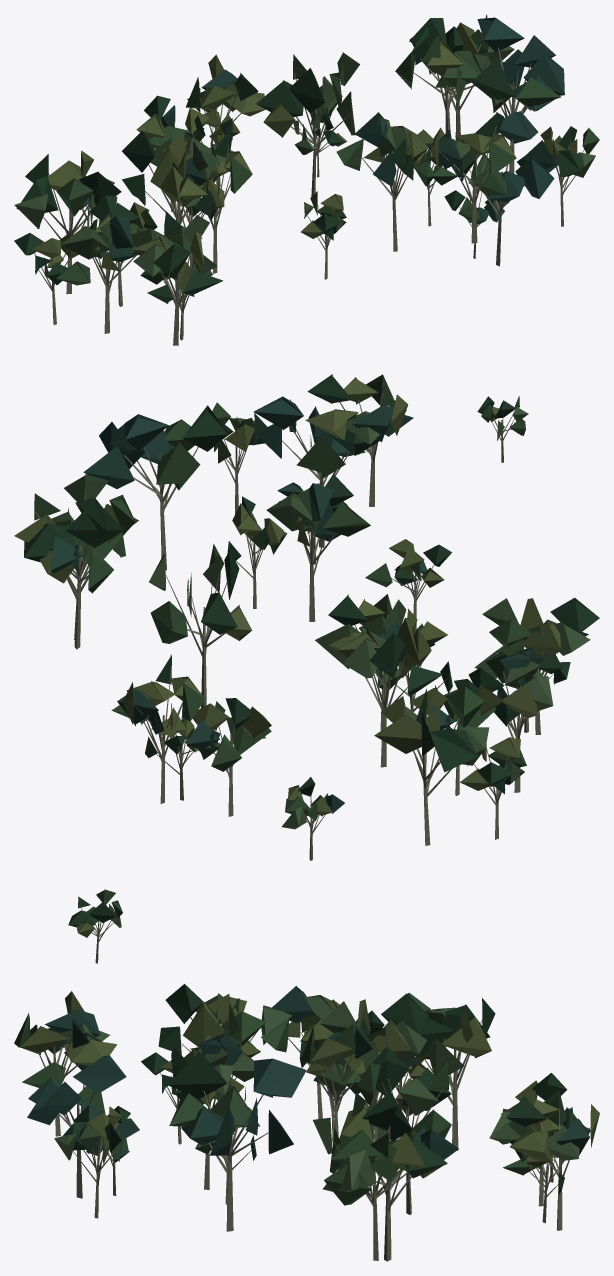
File: forest_18_25.dae
3 renders of one model, top to bottom at view 1: azimuth 30°, elevation 25°; view 2: azimuth 150°, elevation 25°; view 3: azimuth 270°, elevation 25°, orthographic. The views are drawn at different scales.
Visible parts, largest first — view 1: Node; view 2: Node; view 3: Node.
Part boxes in pixels (x1,y1,x2,y2): Node: (14, 14, 599, 345); Node: (14, 374, 599, 860); Node: (14, 889, 599, 1261).
Bounding box in the file's own units: 11.04 × 10.75 × 6.23.
